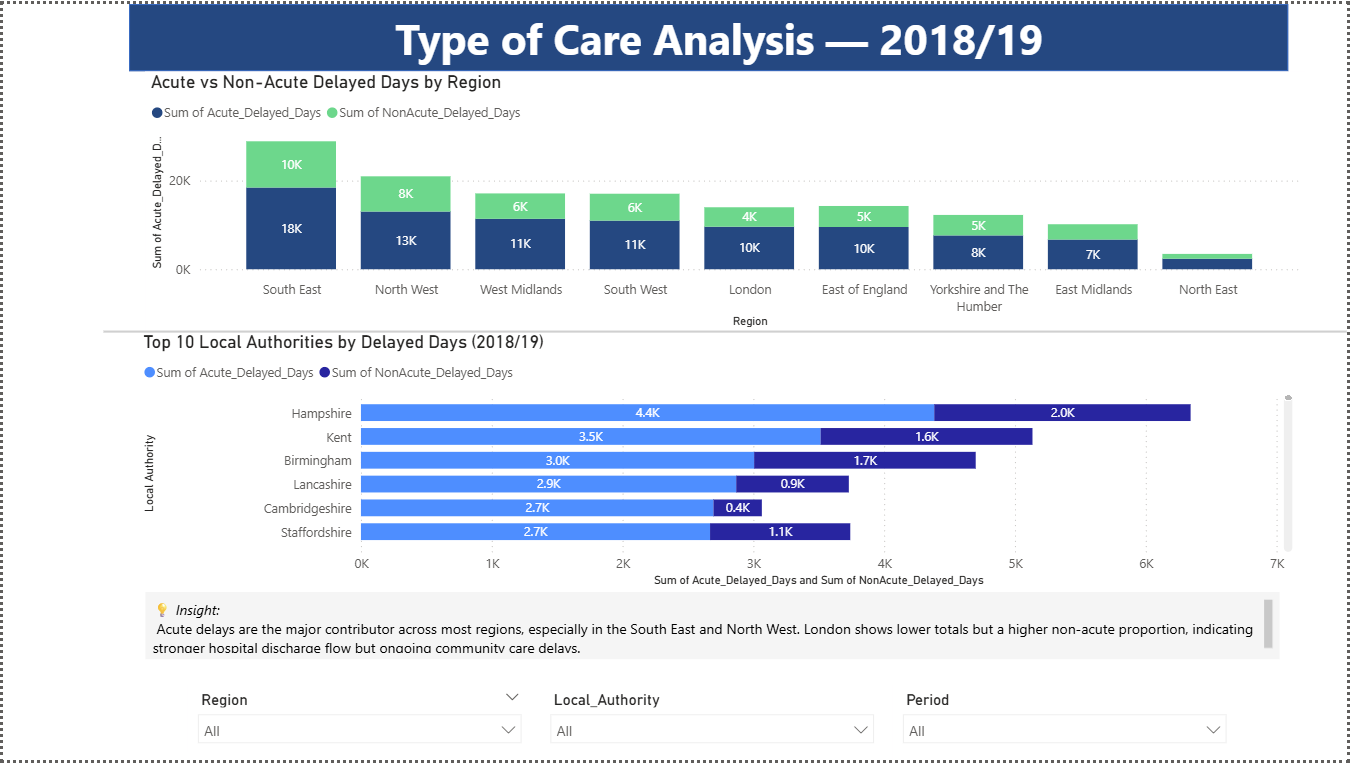

The dashboard page shown, as its layout file describes it:
{"tool":"powerbi","page":{"name":"Type of Care Analysis","canvas":[1280,720],"ordinal":1},"visuals":[{"type":"shape","box":[120,0,1104,64],"z":0},{"type":"slicer","fields":{"Values":["LA - by type of care.Region"]},"box":[176,648,328,64],"z":0,"group":"g1"},{"type":"columnChart","title":"Acute vs Non-Acute Delayed Days by Region","fields":{"Category":["LA - by type of care.Region"],"Y":["Sum(LA - by type of care.Acute_Delayed_Days)","Sum(LA - by type of care.NonAcute_Delayed_Days)"]},"box":[112,48,1088,288],"z":1000},{"type":"slicer","fields":{"Values":["LA - by type of care.Local_Authority"]},"box":[512,648,328,71.1],"z":1000,"group":"g1"},{"type":"barChart","title":"Top 10 Local Authorities by Delayed Days (2018/19)","fields":{"Category":["LA - by type of care.Local_Authority"],"Y":["Sum(LA - by type of care.Acute_Delayed_Days)","Sum(LA - by type of care.NonAcute_Delayed_Days)"]},"box":[112,336,1104,240],"z":2000},{"type":"slicer","fields":{"Values":["LA - by type of care.Period"]},"box":[848,648,328,72],"z":2000,"group":"g1"},{"type":"group","id":"g1","title":"Group 2","box":[176,648,992,72],"z":3000},{"type":"textbox","box":[128,576,1088,64],"z":4000},{"type":"shape","box":[80,176,1184,304],"z":5000}]}

Visuals, with their boxes in screenshot pixels (x1, y1, x2, y2), scaled from the page's 1280x720 canvas onto the 1357x771 screenshot:
shape: (left=127, top=0, right=1298, bottom=69)
slicer - LA - by type of care.Region: (left=187, top=694, right=534, bottom=762)
"Acute vs Non-Acute Delayed Days by Region" columnChart: (left=119, top=51, right=1272, bottom=360)
slicer - LA - by type of care.Local_Authority: (left=543, top=694, right=891, bottom=770)
"Top 10 Local Authorities by Delayed Days (2018/19)" barChart: (left=119, top=360, right=1289, bottom=617)
slicer - LA - by type of care.Period: (left=899, top=694, right=1247, bottom=770)
"Group 2" group: (left=187, top=694, right=1238, bottom=770)
textbox: (left=136, top=617, right=1289, bottom=685)
shape: (left=85, top=188, right=1340, bottom=514)
